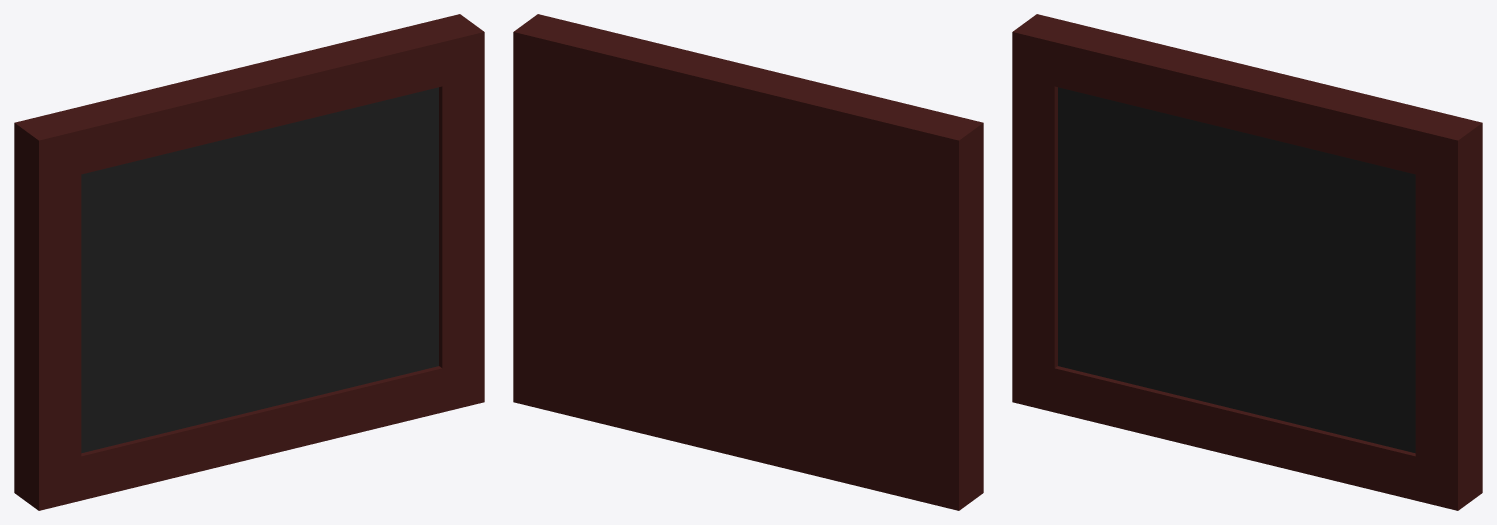
File: Itr_Obj_Laptop_Screen_off_02.FBX
The picture shows the model from 3 angles, left to right: view 1: azimuth 30°, elevation 25°; view 2: azimuth 150°, elevation 25°; view 3: azimuth 330°, elevation 25°; orthographic projection.
Visible parts, largest first — view 1: Itr_Obj_Laptop_Screen_off_02; view 2: Itr_Obj_Laptop_Screen_off_02; view 3: Itr_Obj_Laptop_Screen_off_02.
Part boxes in pixels (box(x1,y1,x2,y2)): Itr_Obj_Laptop_Screen_off_02: box(14, 14, 484, 510); Itr_Obj_Laptop_Screen_off_02: box(513, 14, 983, 510); Itr_Obj_Laptop_Screen_off_02: box(1012, 14, 1482, 510).
Bounding box in the file's own units: 29.1 × 23.12 × 2.77.
